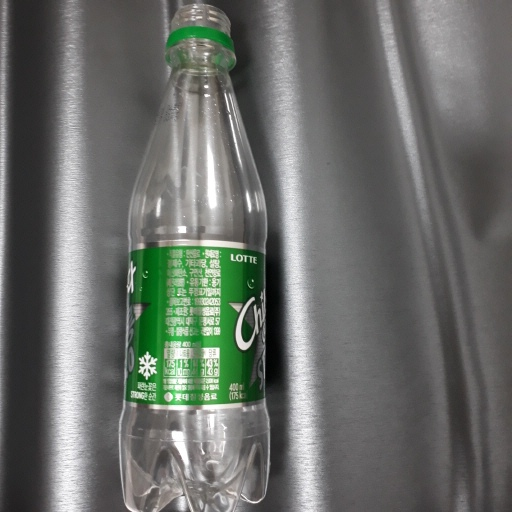Plastic_0: (118, 1, 273, 512)
